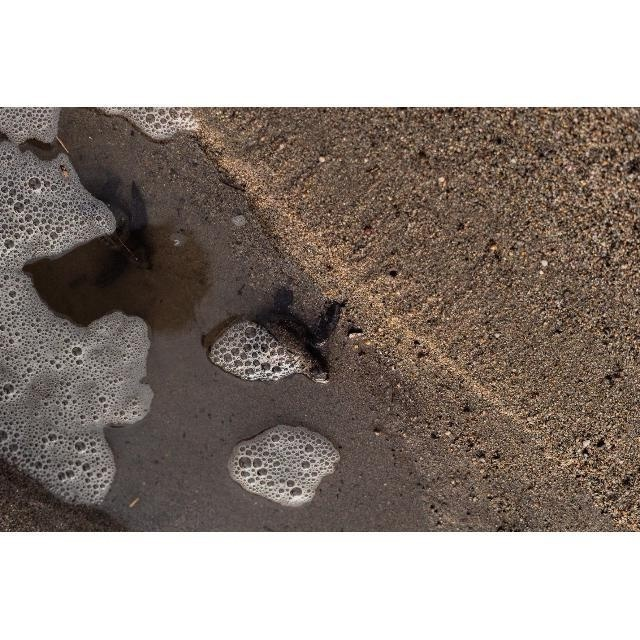turtle: (204, 286, 344, 384)
